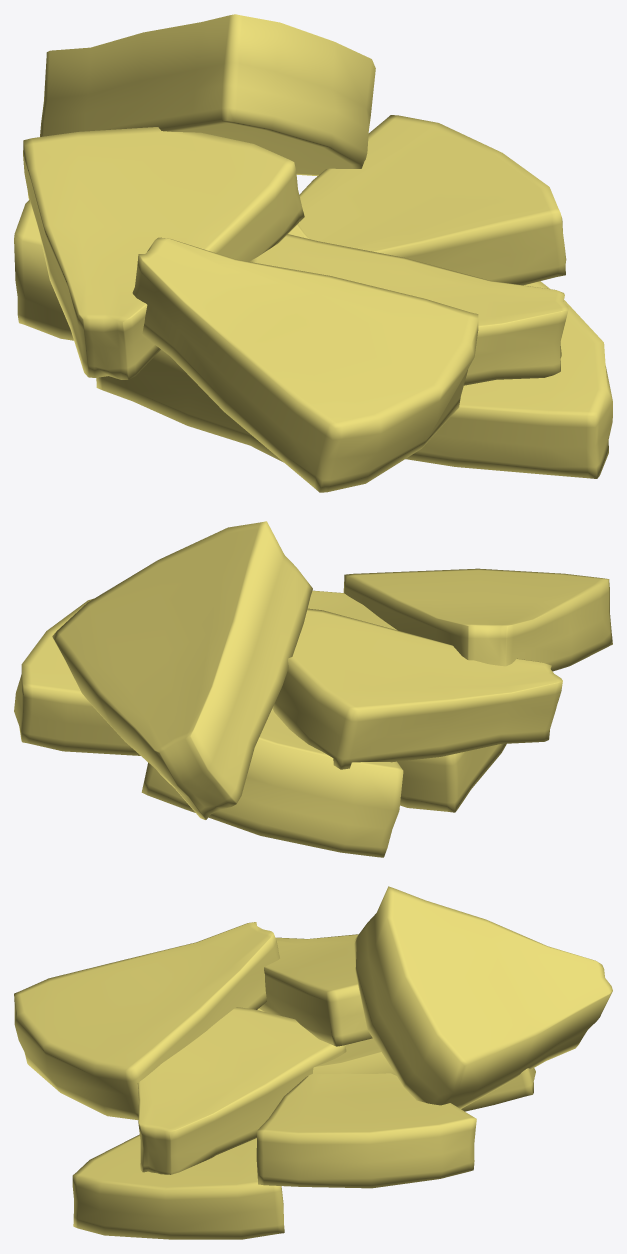
The model's file is pineapple_select.fbx.
3 views of the same model, one above another, from view 1: azimuth 30°, elevation 25°; view 2: azimuth 150°, elevation 25°; view 3: azimuth 270°, elevation 25° (orthographic). The views are drawn at different scales.
Visible parts, largest first — view 1: pineapple_select; view 2: pineapple_select; view 3: pineapple_select.
Boxes of the visible parts, x1,y1,x2,y2 form: pineapple_select: [14, 14, 612, 492]; pineapple_select: [14, 521, 612, 857]; pineapple_select: [14, 886, 612, 1239].
Size of the model in its own units: 3.67 by 2.47 by 4.81.
